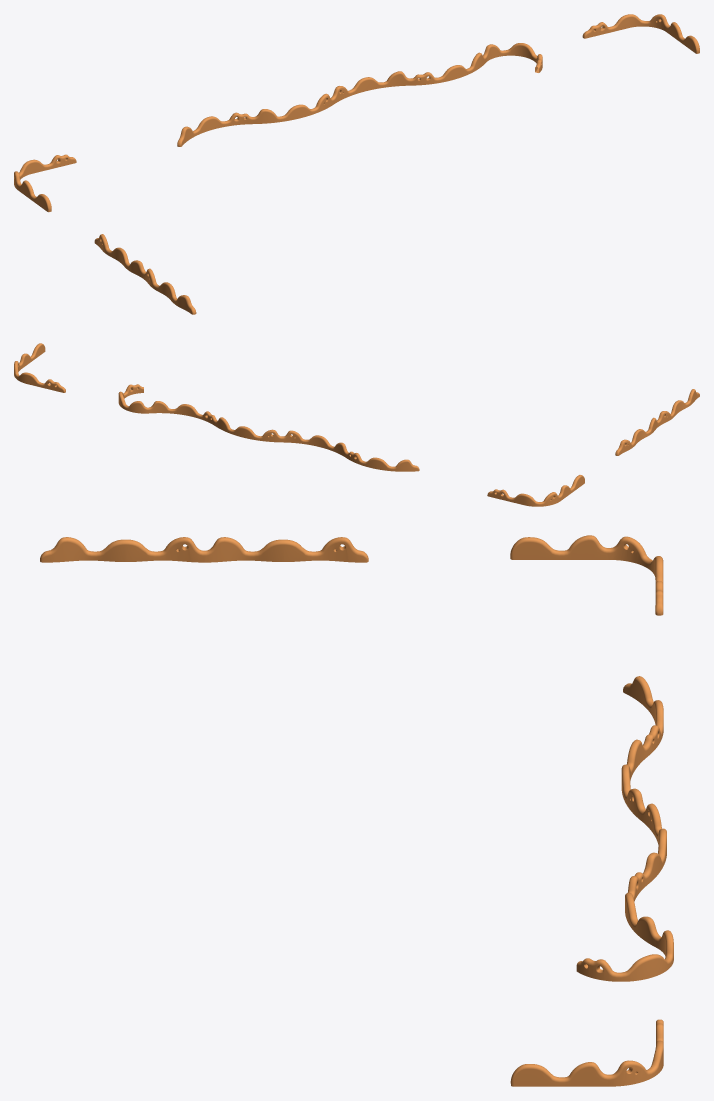
Rendered from shopping_pier_walls.fbx.
3 views of the same model, one above another, from view 1: azimuth 30°, elevation 25°; view 2: azimuth 150°, elevation 25°; view 3: azimuth 270°, elevation 25° (orthographic). The views are drawn at different scales.
Parts seen in each view (by area): view 1: shopping_pier_wall_03, shopping_pier_wall_02, shopping_pier_wall_04, shopping_pier_wall_01; view 2: shopping_pier_wall_03, shopping_pier_wall_01, shopping_pier_wall_04, shopping_pier_wall_02; view 3: shopping_pier_wall_03, shopping_pier_wall_04, shopping_pier_wall_01, shopping_pier_wall_02.
Part boxes in pixels (x1,y1,x2,y2): shopping_pier_wall_03: (177, 43, 542, 146); shopping_pier_wall_02: (582, 14, 699, 53); shopping_pier_wall_04: (94, 234, 196, 314); shopping_pier_wall_01: (14, 154, 76, 212); shopping_pier_wall_03: (118, 384, 419, 471); shopping_pier_wall_01: (487, 475, 584, 506); shopping_pier_wall_04: (615, 389, 699, 455); shopping_pier_wall_02: (14, 343, 65, 392); shopping_pier_wall_03: (576, 676, 673, 981); shopping_pier_wall_04: (40, 537, 368, 562); shopping_pier_wall_01: (510, 535, 663, 615); shopping_pier_wall_02: (510, 1019, 663, 1086).
Bounding box in the file's own units: 160 × 3.15 × 80.89.
